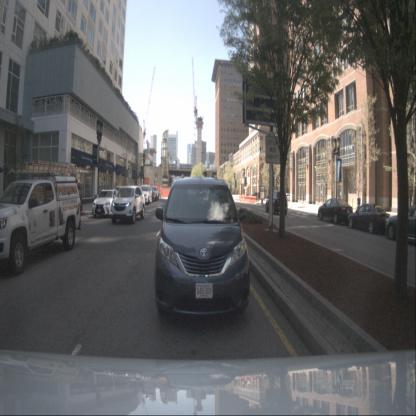barrier: (250, 195, 257, 203), (232, 194, 240, 201), (239, 194, 245, 203), (245, 195, 251, 203)
